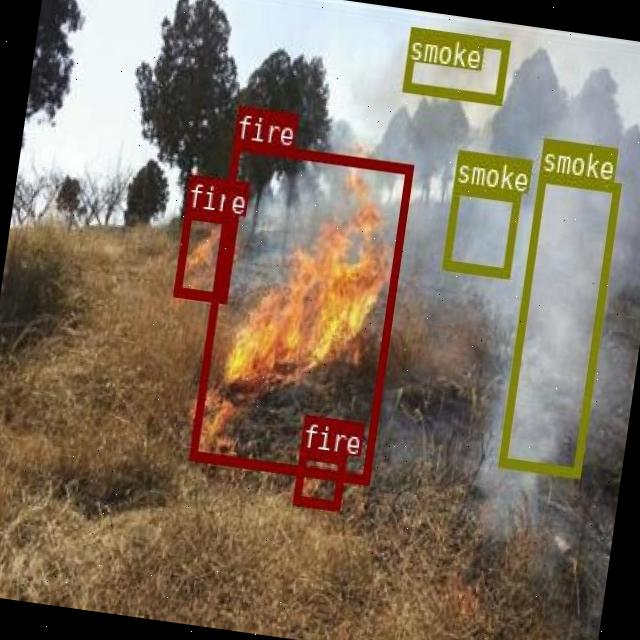fire: (188, 139, 412, 483), (172, 208, 238, 301), (292, 446, 346, 508)
smoke: (496, 169, 620, 476), (402, 25, 508, 103), (442, 184, 520, 278)
